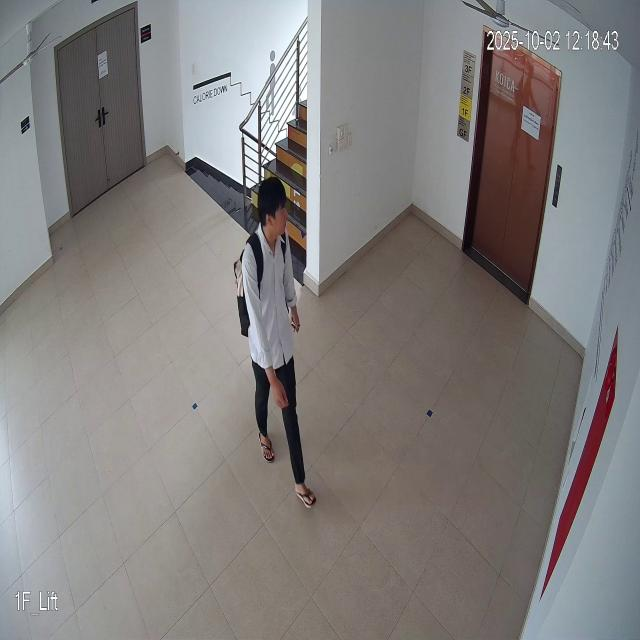face: (255, 174, 287, 243)
